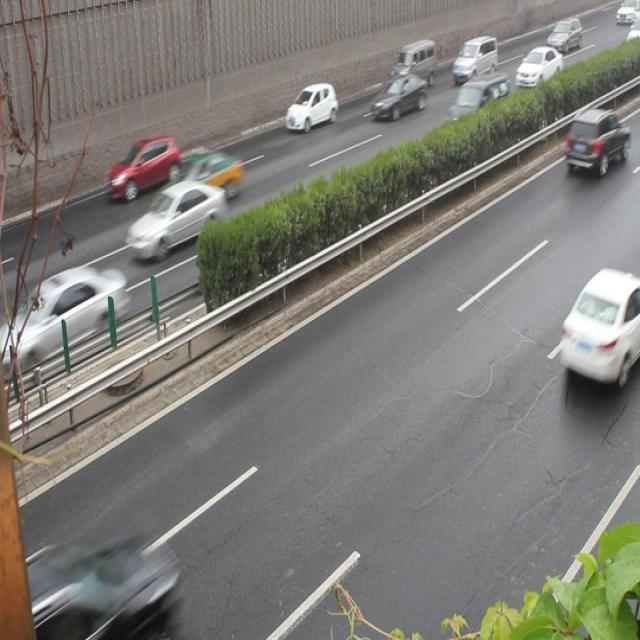car: (24, 540, 182, 639), (0, 261, 125, 372), (557, 265, 639, 384), (126, 179, 223, 258), (149, 151, 241, 212), (106, 132, 176, 196), (562, 103, 625, 172), (285, 80, 336, 130), (370, 72, 424, 116), (513, 44, 560, 91)
